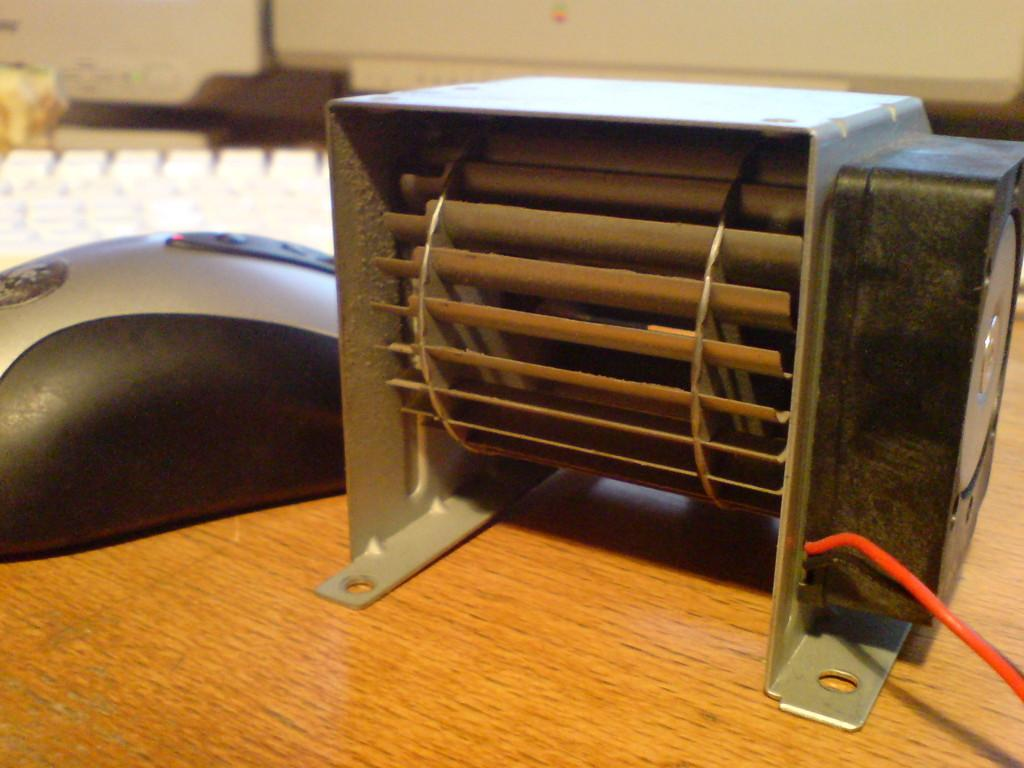Computer-mouse: (0, 220, 350, 563)
